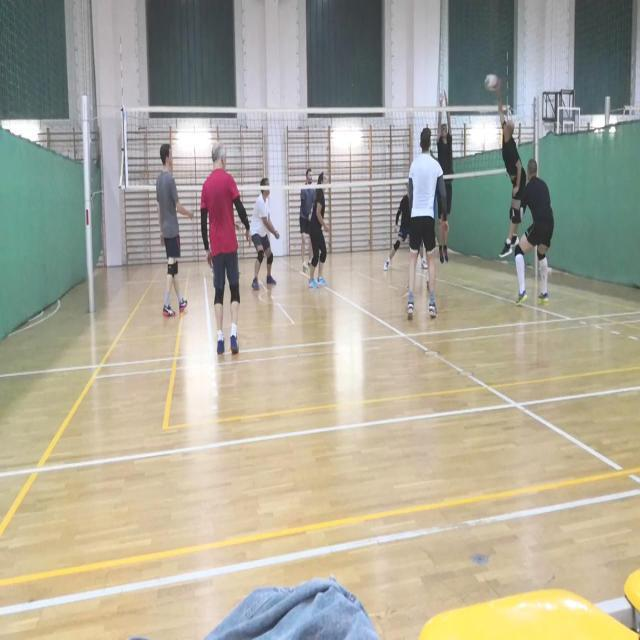volleyball: (482, 75, 500, 95)
